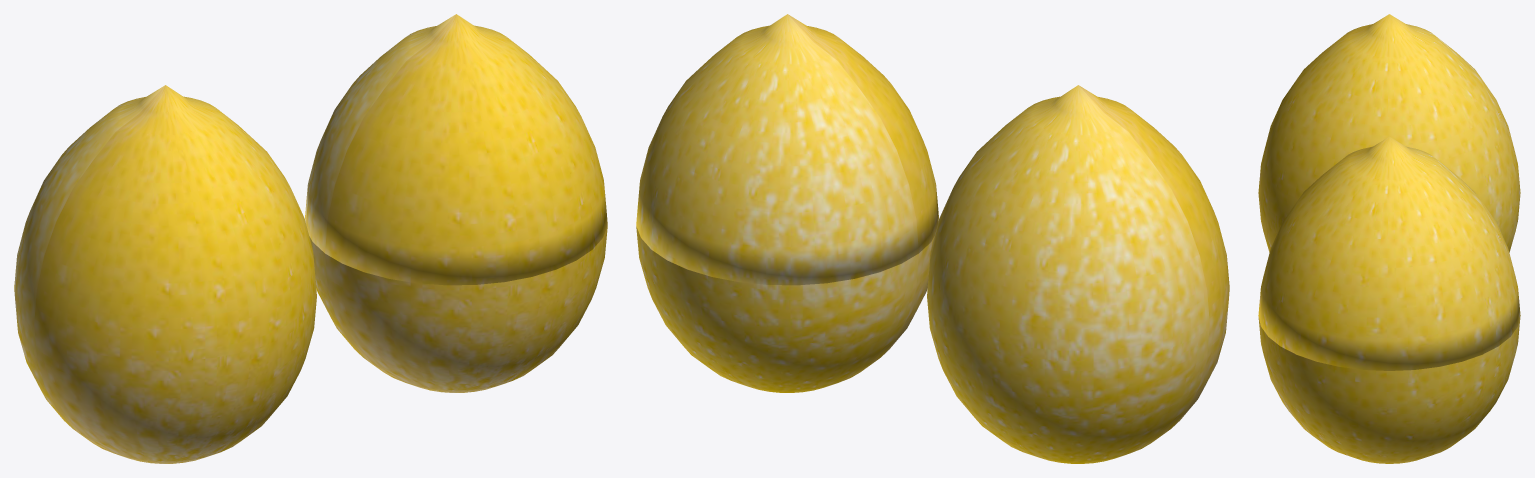
Rendered from Lemon.fbx.
3 renders of one model, left to right at view 1: azimuth 30°, elevation 25°; view 2: azimuth 150°, elevation 25°; view 3: azimuth 270°, elevation 25°, orthographic. The views are drawn at different scales.
Visible parts, largest first — view 1: lemon, lemon top half, lemon lower half; view 2: lemon, lemon top half, lemon lower half; view 3: lemon top half, lemon, lemon lower half.
Part boxes in pixels (x1=…): lemon: x1=14, y1=85, x2=316, y2=463; lemon top half: x1=305, y1=14, x2=607, y2=285; lemon lower half: x1=309, y1=226, x2=607, y2=392; lemon: x1=927, y1=85, x2=1229, y2=463; lemon top half: x1=636, y1=14, x2=938, y2=285; lemon lower half: x1=636, y1=226, x2=934, y2=392; lemon top half: x1=1258, y1=136, x2=1520, y2=370; lemon: x1=1258, y1=14, x2=1520, y2=252; lemon lower half: x1=1258, y1=317, x2=1520, y2=463.
Size of the model in its own units: 421 by 274 by 200.
